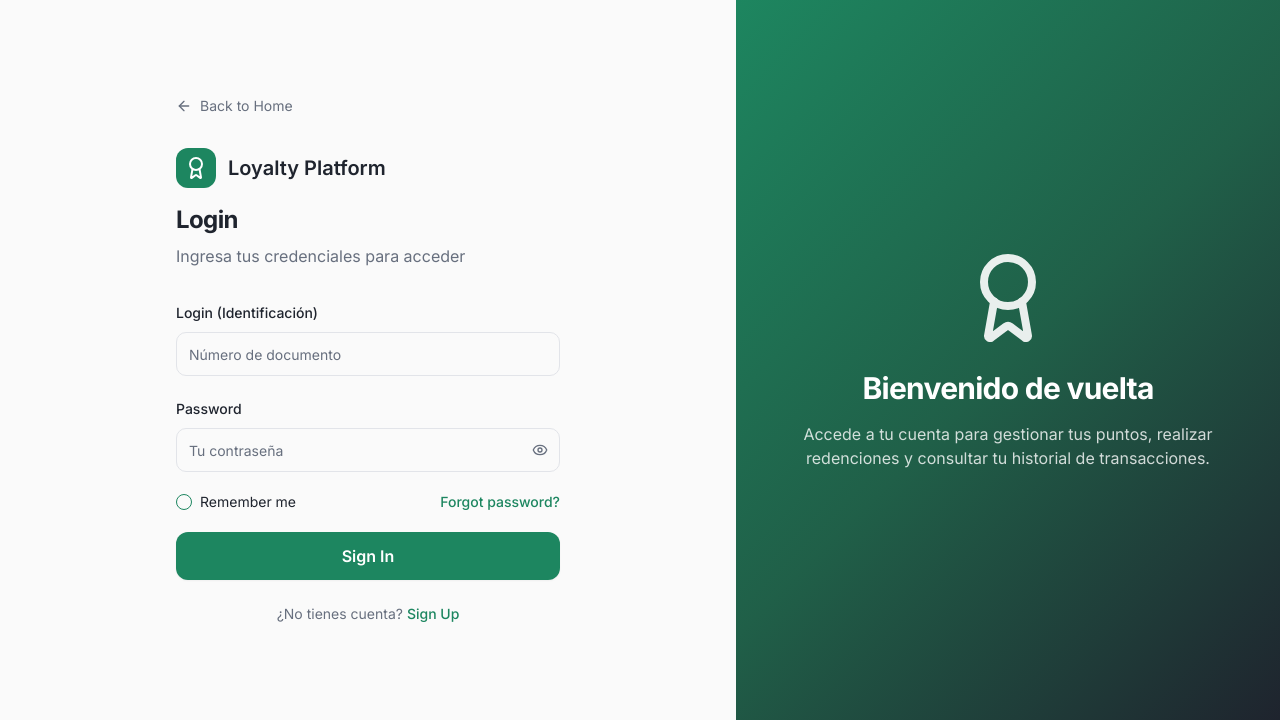
Test: Login Page › shows error when credentials are empty and Sign In is clicked
The image size is (1280, 720).
Click the button "Sign In" at (368, 556), box [176,532,560,580]
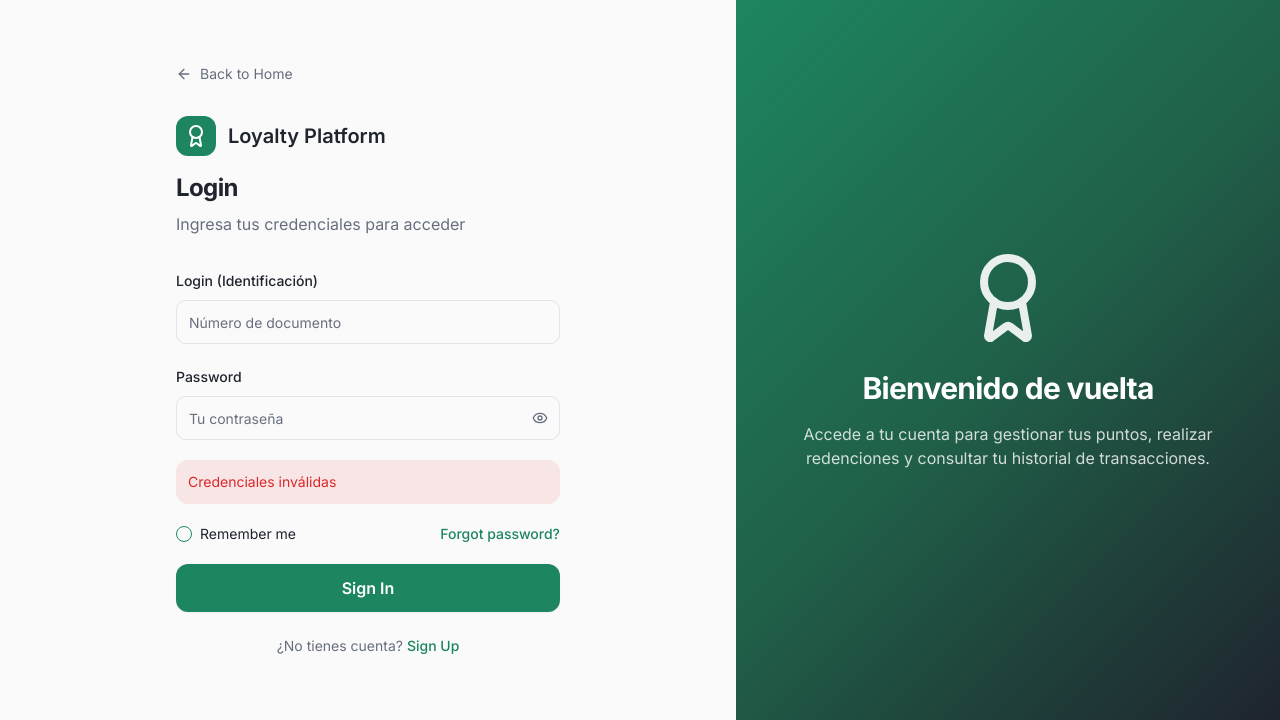
Check: the text "Credenciales inválidas" is shown, box [176,460,560,504]
